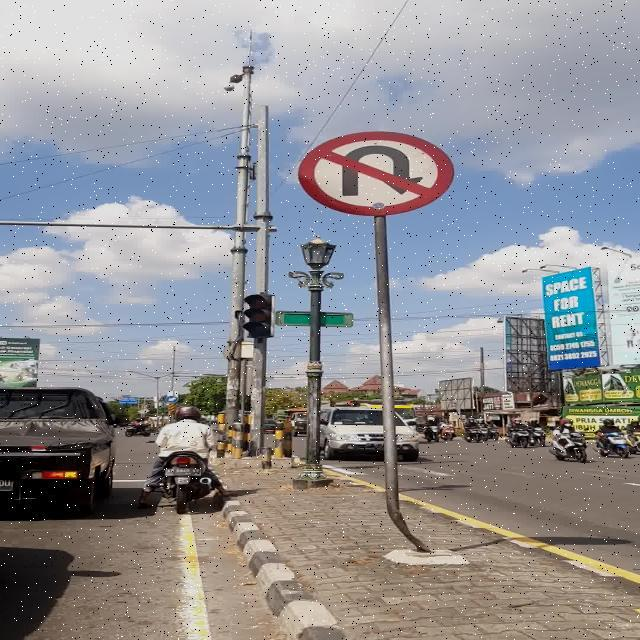Dilarang Putar Balik: (296, 130, 455, 216)
